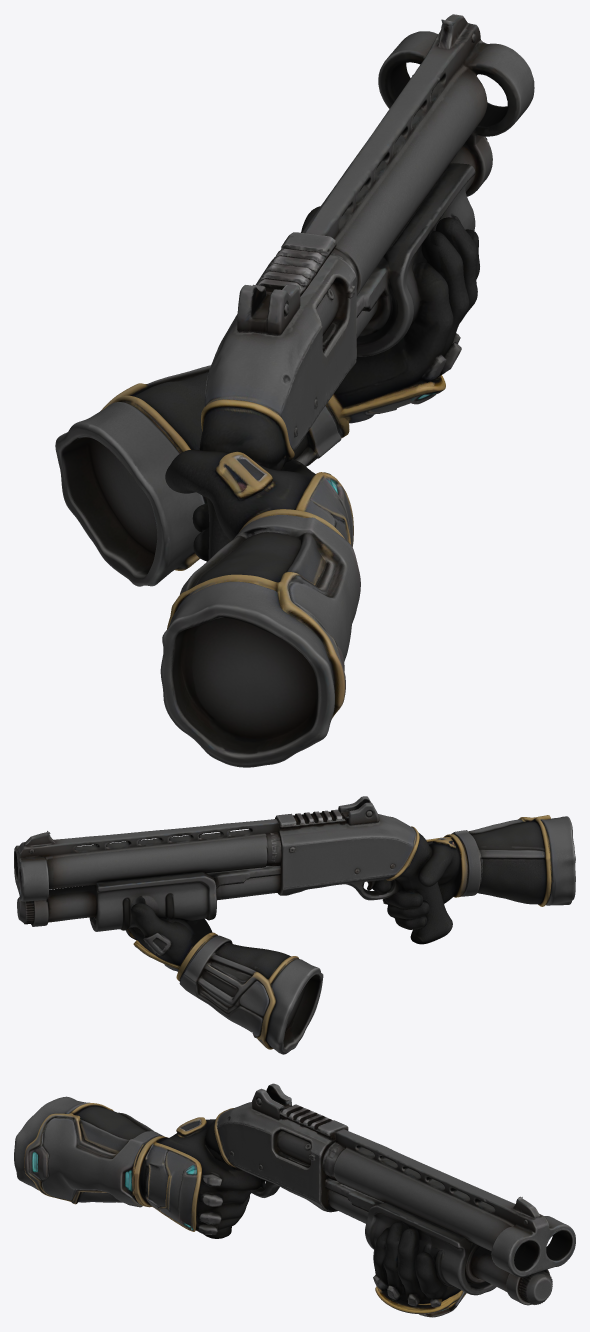
File: shotgun_vm.glb
3 views of the same model, one above another, from view 1: azimuth 30°, elevation 25°; view 2: azimuth 150°, elevation 25°; view 3: azimuth 270°, elevation 25° (orthographic). The views are drawn at different scales.
Parts seen in each view (by area): view 1: tripo_node_688fe2a8-57e3-45cb-9e4a-266e54cefeee; view 2: tripo_node_688fe2a8-57e3-45cb-9e4a-266e54cefeee; view 3: tripo_node_688fe2a8-57e3-45cb-9e4a-266e54cefeee.
Boxes of the visible parts, left/top/right/bottom form: tripo_node_688fe2a8-57e3-45cb-9e4a-266e54cefeee: left=55, top=14, right=534, bottom=767; tripo_node_688fe2a8-57e3-45cb-9e4a-266e54cefeee: left=14, top=796, right=575, bottom=1054; tripo_node_688fe2a8-57e3-45cb-9e4a-266e54cefeee: left=14, top=1083, right=575, bottom=1317.
Size of the model in its own units: 0.7872 by 0.4055 by 0.9218.
Materials: 1 (1 with a texture image).
